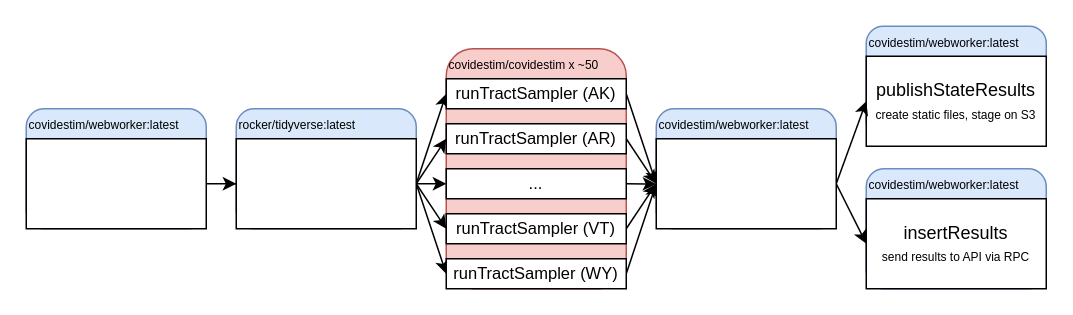
Some shapes in this 1073 by 315 pixel diagram are drawn without their labels. Here are the shapes that lost their labels. From the top down, the centre of each, then its label:
point 115,183: jhuStateVaxData create all input data
point 325,183: splitTractData split inputs into per-state tuples
point 745,183: makeSyntheticIntervals create UIs for optimized states
